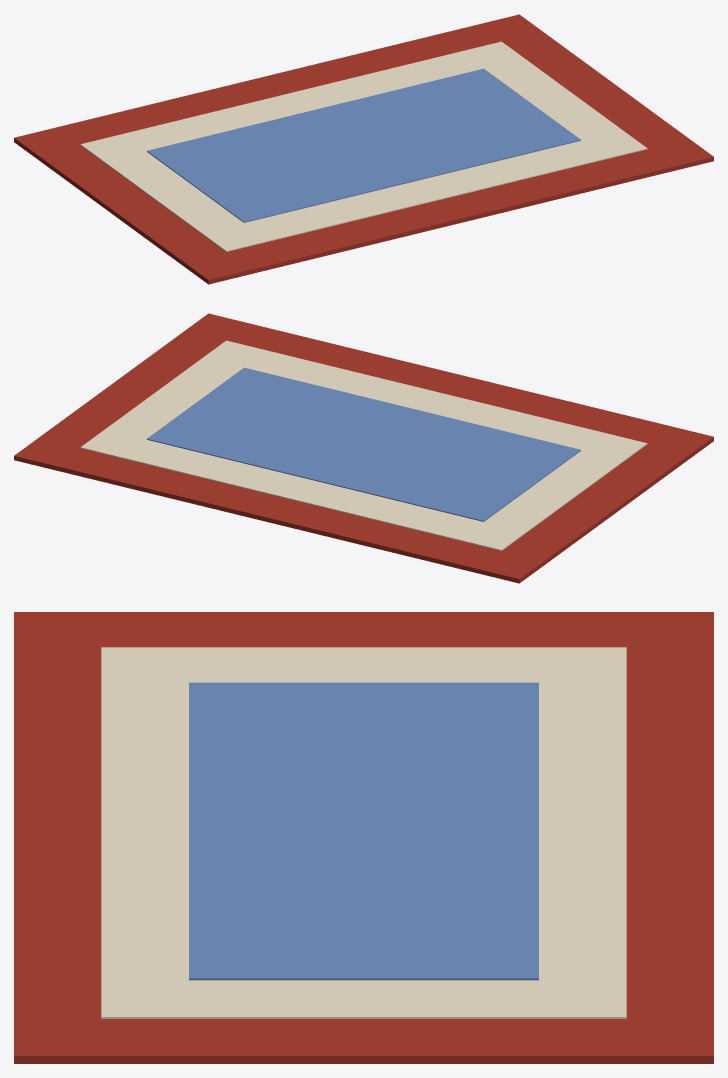
The model's file is rug.glb.
3 views of the same model, one above another, from view 1: azimuth 30°, elevation 25°; view 2: azimuth 150°, elevation 25°; view 3: azimuth 270°, elevation 25° (orthographic). The views are drawn at different scales.
Visible parts, largest first — view 1: building; view 2: building; view 3: building.
Boxes of the visible parts, left/top/right/bottom form: building: left=14, top=14, right=713, bottom=284; building: left=14, top=313, right=713, bottom=583; building: left=14, top=612, right=713, bottom=1063.
Bounding box in the file's own units: 2.4 × 0.03 × 1.6.
